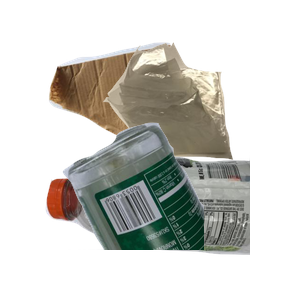cardboard: (46, 40, 226, 179)
glass: (60, 120, 300, 300)
plastic: (43, 152, 283, 300)
trash: (101, 40, 300, 192)
